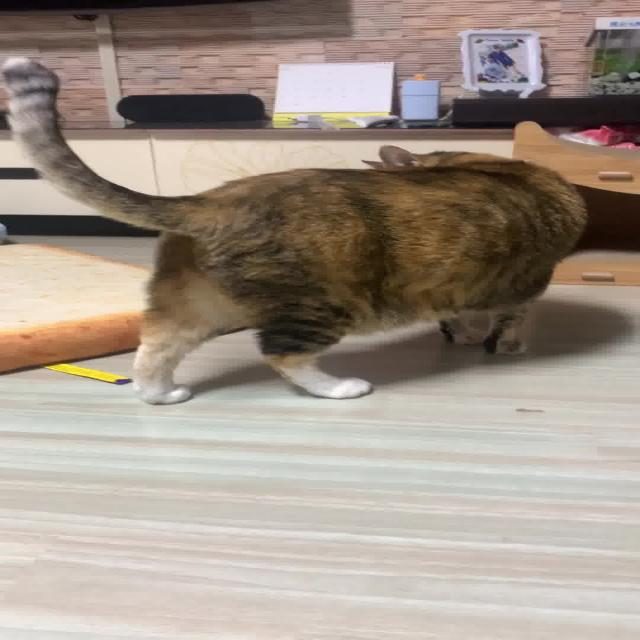cat: (0, 52, 606, 410)
